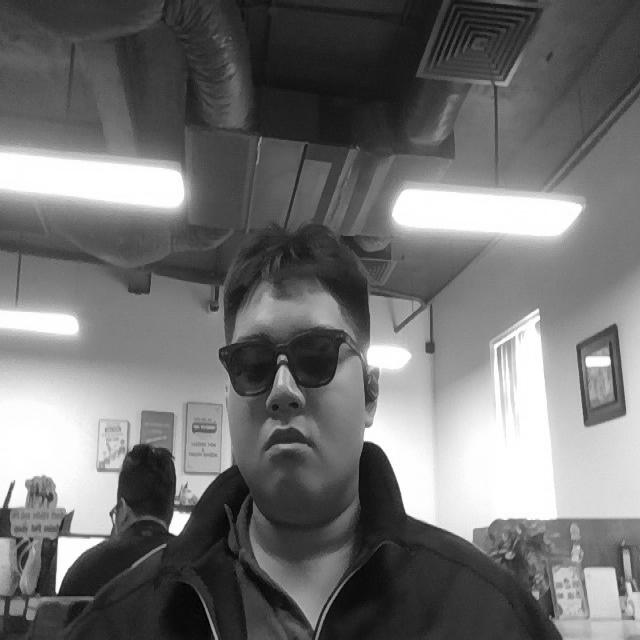fake: (212, 325, 350, 394)
real: (224, 234, 373, 520)
